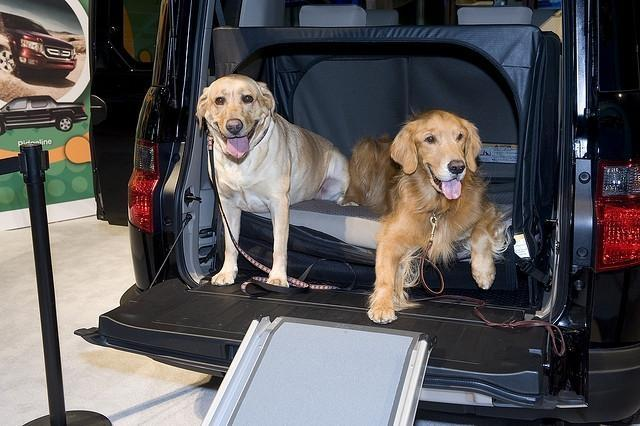car: (75, 3, 640, 421)
